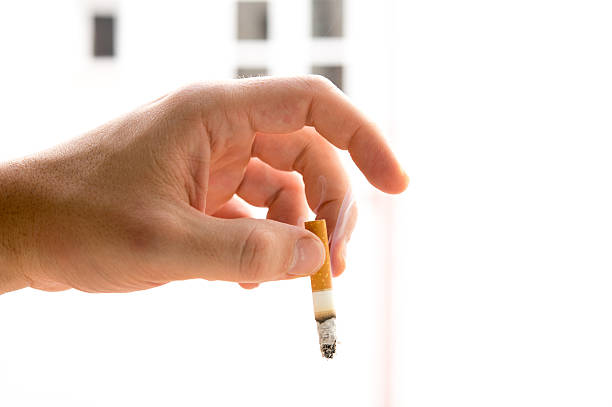cigarette: (302, 219, 340, 362)
